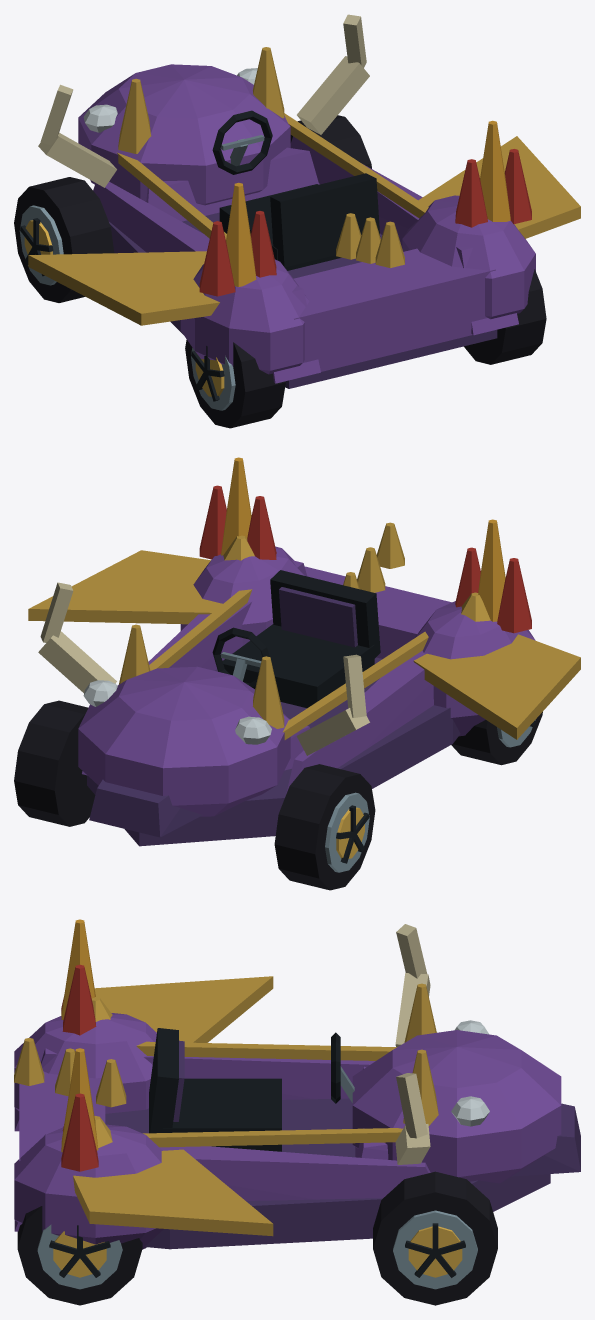
The model's file is kart.glb.
3 views of the same model, one above another, from view 1: azimuth 30°, elevation 25°; view 2: azimuth 150°, elevation 25°; view 3: azimuth 270°, elevation 25° (orthographic). The views are drawn at different scales.
Visible parts, largest first — view 1: identity-dragon-dragon-sculpted-prow-and-haunches, identity-dragon-motif-fire, identity-dragon-driver-cockpit, wheel-front-left, identity-dragon-motif-horns, wheel-rear-left, wheel-rear-right, wheel-front-right; view 2: identity-dragon-dragon-sculpted-prow-and-haunches, identity-dragon-driver-cockpit, wheel-front-left, identity-dragon-motif-fire, wheel-front-right, identity-dragon-motif-horns, wheel-rear-left, identity-dragon-motif-gems; view 3: identity-dragon-dragon-sculpted-prow-and-haunches, wheel-front-right, identity-dragon-driver-cockpit, wheel-rear-right, identity-dragon-motif-fire, identity-dragon-motif-horns, identity-dragon-motif-gems.
Boxes of the visible parts, x1,y1,x2,y2 form: identity-dragon-dragon-sculpted-prow-and-haunches: (28,47,580,388); identity-dragon-motif-fire: (199,120,531,296); identity-dragon-driver-cockpit: (212,110,380,270); wheel-front-left: (14,177,114,302); identity-dragon-motif-horns: (38,14,369,187); wheel-rear-left: (185,339,285,428); wheel-rear-right: (464,269,546,364); wheel-front-right: (290,115,371,168); identity-dragon-dragon-sculpted-prow-and-haunches: (28,522,580,846); identity-dragon-driver-cockpit: (212,570,380,708); wheel-front-left: (274,764,375,890); identity-dragon-motif-fire: (199,457,531,633); wheel-front-right: (14,700,95,826); identity-dragon-motif-horns: (38,582,369,755); wheel-rear-left: (451,712,542,765); identity-dragon-motif-gems: (223,535,490,621); identity-dragon-dragon-sculpted-prow-and-haunches: (14,976,580,1249); wheel-front-right: (373,1171,497,1305); identity-dragon-driver-cockpit: (149,1028,354,1151); wheel-rear-right: (17,1206,142,1305); identity-dragon-motif-fire: (61,919,98,1171); identity-dragon-motif-horns: (395,924,430,1164); identity-dragon-motif-gems: (91,997,112,1147).
Size of the model in its own units: 3 by 1.37 by 2.9.
